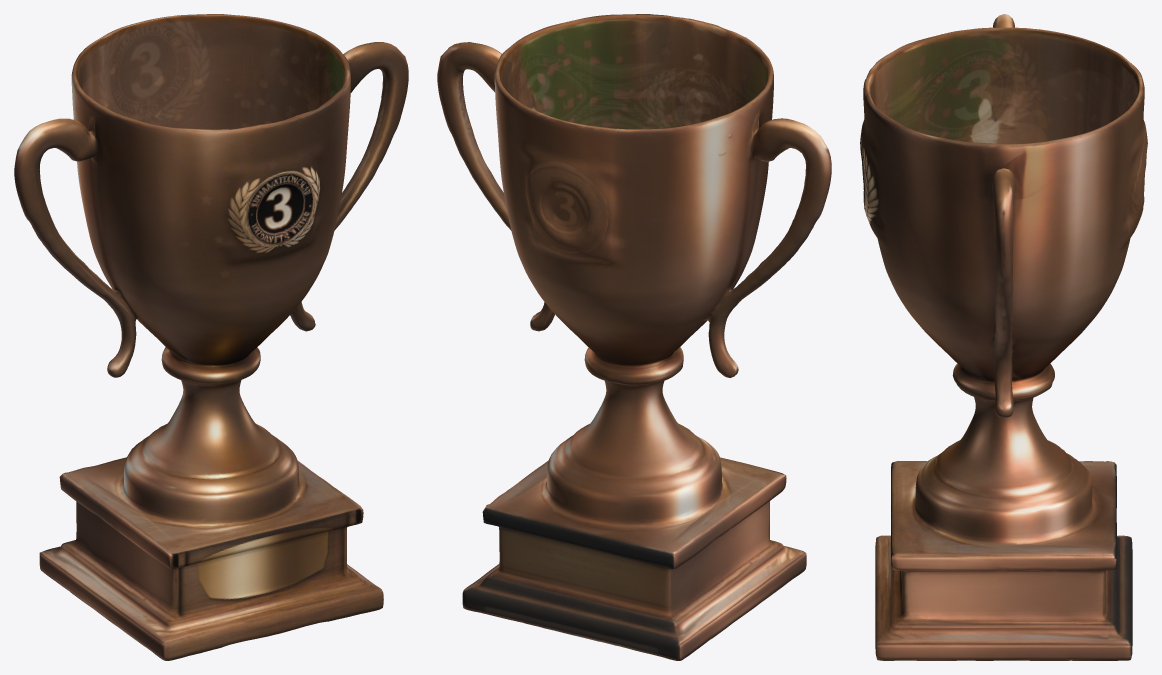
The model's file is third_place_bronze.glb.
The picture shows the model from 3 angles, left to right: view 1: azimuth 30°, elevation 25°; view 2: azimuth 150°, elevation 25°; view 3: azimuth 270°, elevation 25°; orthographic projection.
Bounding box in the file's own units: 1.59 × 2 × 0.9999.
Materials: 1 (1 with a texture image).
